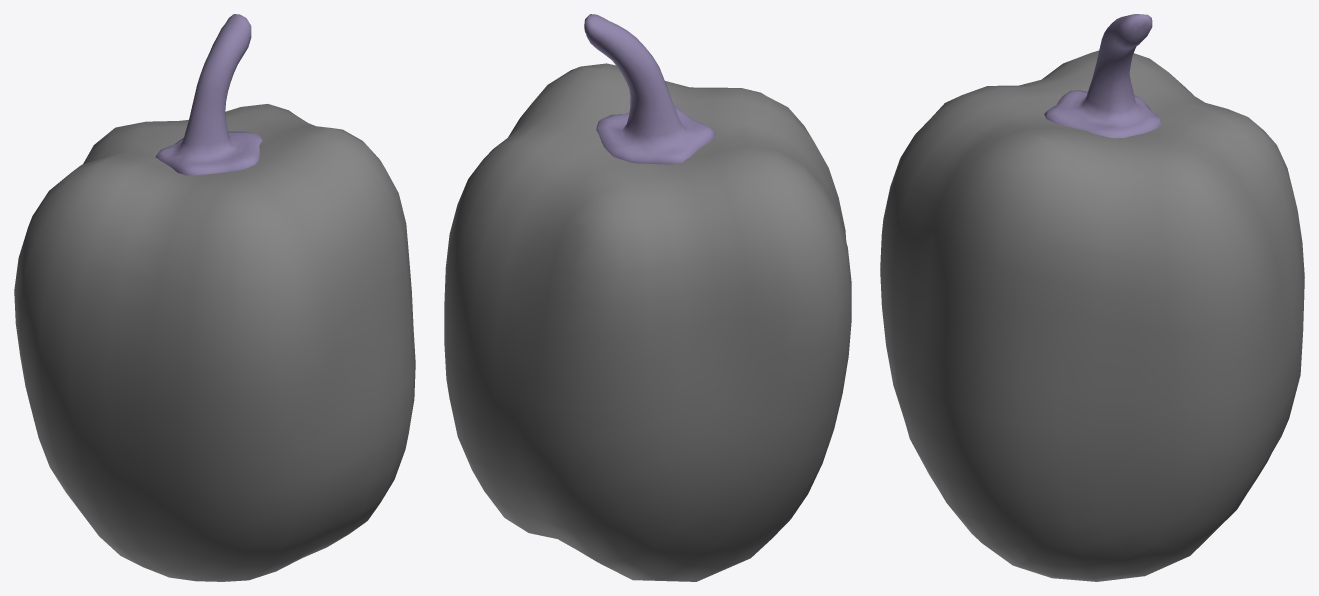
File: Pepper.fbx
3 renders of one model, left to right at view 1: azimuth 30°, elevation 25°; view 2: azimuth 150°, elevation 25°; view 3: azimuth 270°, elevation 25°, orthographic. The views are drawn at different scales.
Visible parts, largest first — view 1: Fruto, Tallo; view 2: Fruto, Tallo; view 3: Fruto, Tallo.
Part boxes in pixels (x1=…): Fruto: x1=14, y1=104, x2=415, y2=581; Tallo: x1=155, y1=14, x2=262, y2=175; Fruto: x1=444, y1=63, x2=851, y2=581; Tallo: x1=584, y1=14, x2=715, y2=164; Fruto: x1=880, y1=50, x2=1304, y2=581; Tallo: x1=1044, y1=14, x2=1161, y2=138.
Bounding box in the file's own units: 88.94 × 127 × 87.99.
